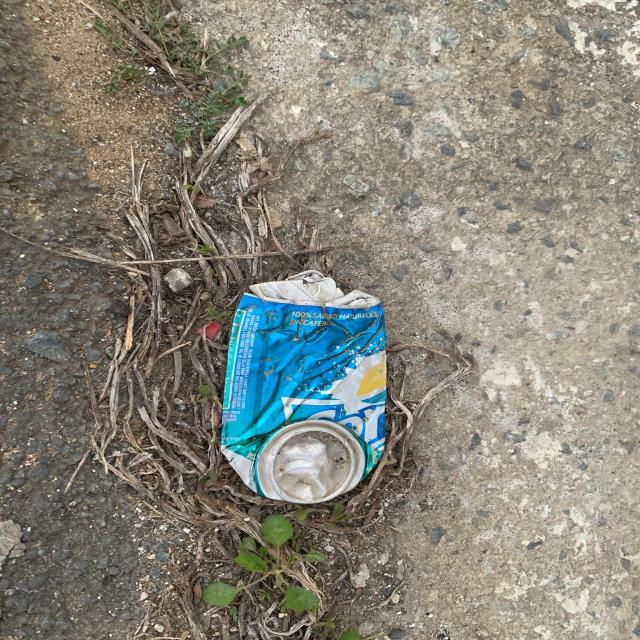litter: (220, 271, 388, 504)
